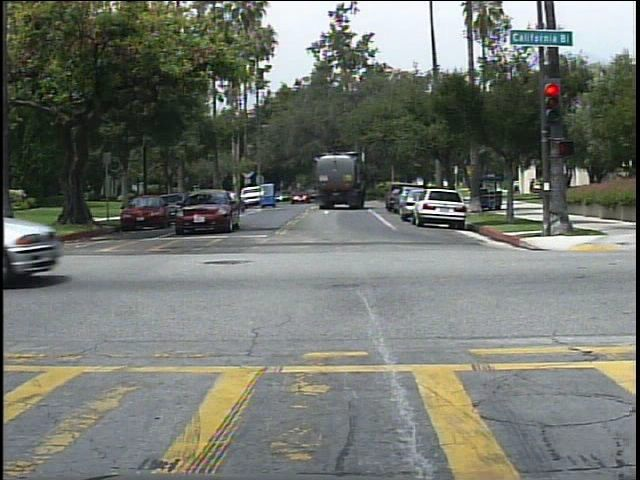person: (510, 178, 524, 198)
